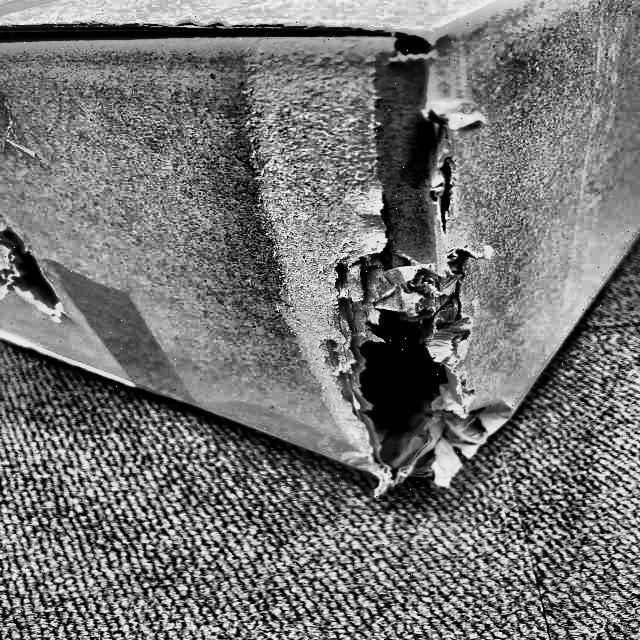box: (1, 1, 640, 519)
hole: (329, 273, 493, 485), (0, 222, 53, 310)
